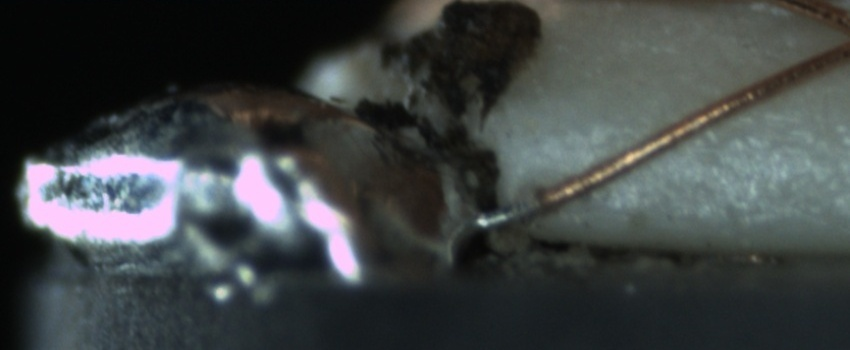CL: (826, 8, 850, 64)
DL: (545, 106, 844, 172)
TS: (467, 199, 539, 232)
